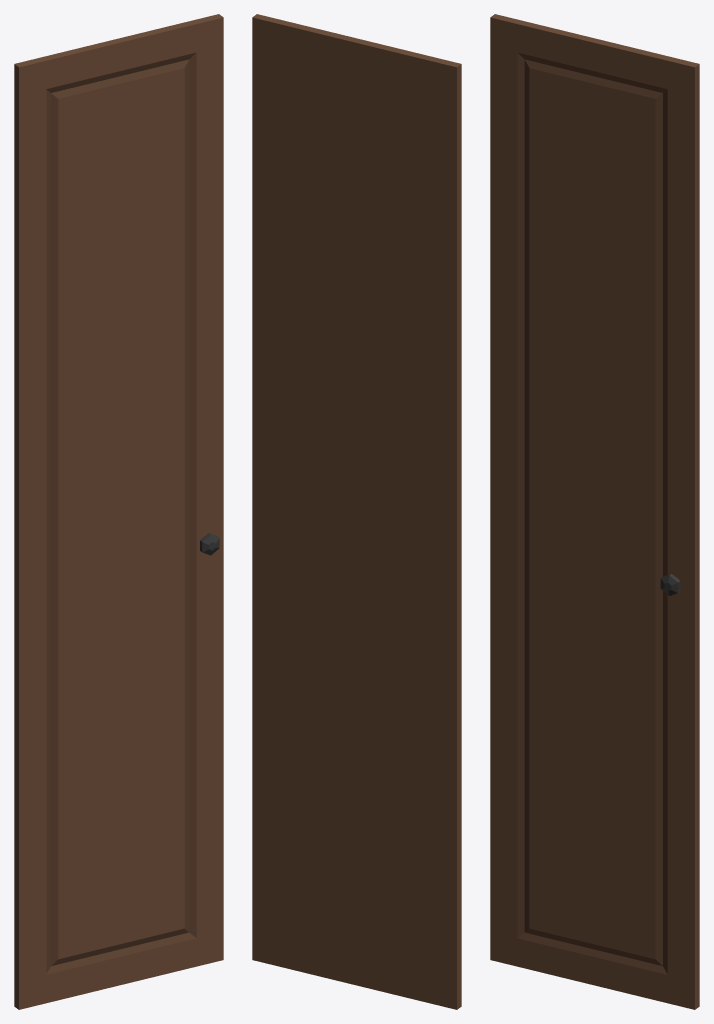
The model's file is Wardrobe4_C3_03.fbx.
The picture shows the model from 3 angles, left to right: view 1: azimuth 30°, elevation 25°; view 2: azimuth 150°, elevation 25°; view 3: azimuth 330°, elevation 25°; orthographic projection.
Parts seen in each view (by area): view 1: Wardrobe4_C3_03; view 2: Wardrobe4_C3_03; view 3: Wardrobe4_C3_03.
Boxes of the visible parts, x1,y1,x2,y2 form: Wardrobe4_C3_03: (14,14,223,1009); Wardrobe4_C3_03: (252,14,461,1009); Wardrobe4_C3_03: (490,14,699,1009).
Bounding box in the file's own units: 50 × 220 × 5.33.
